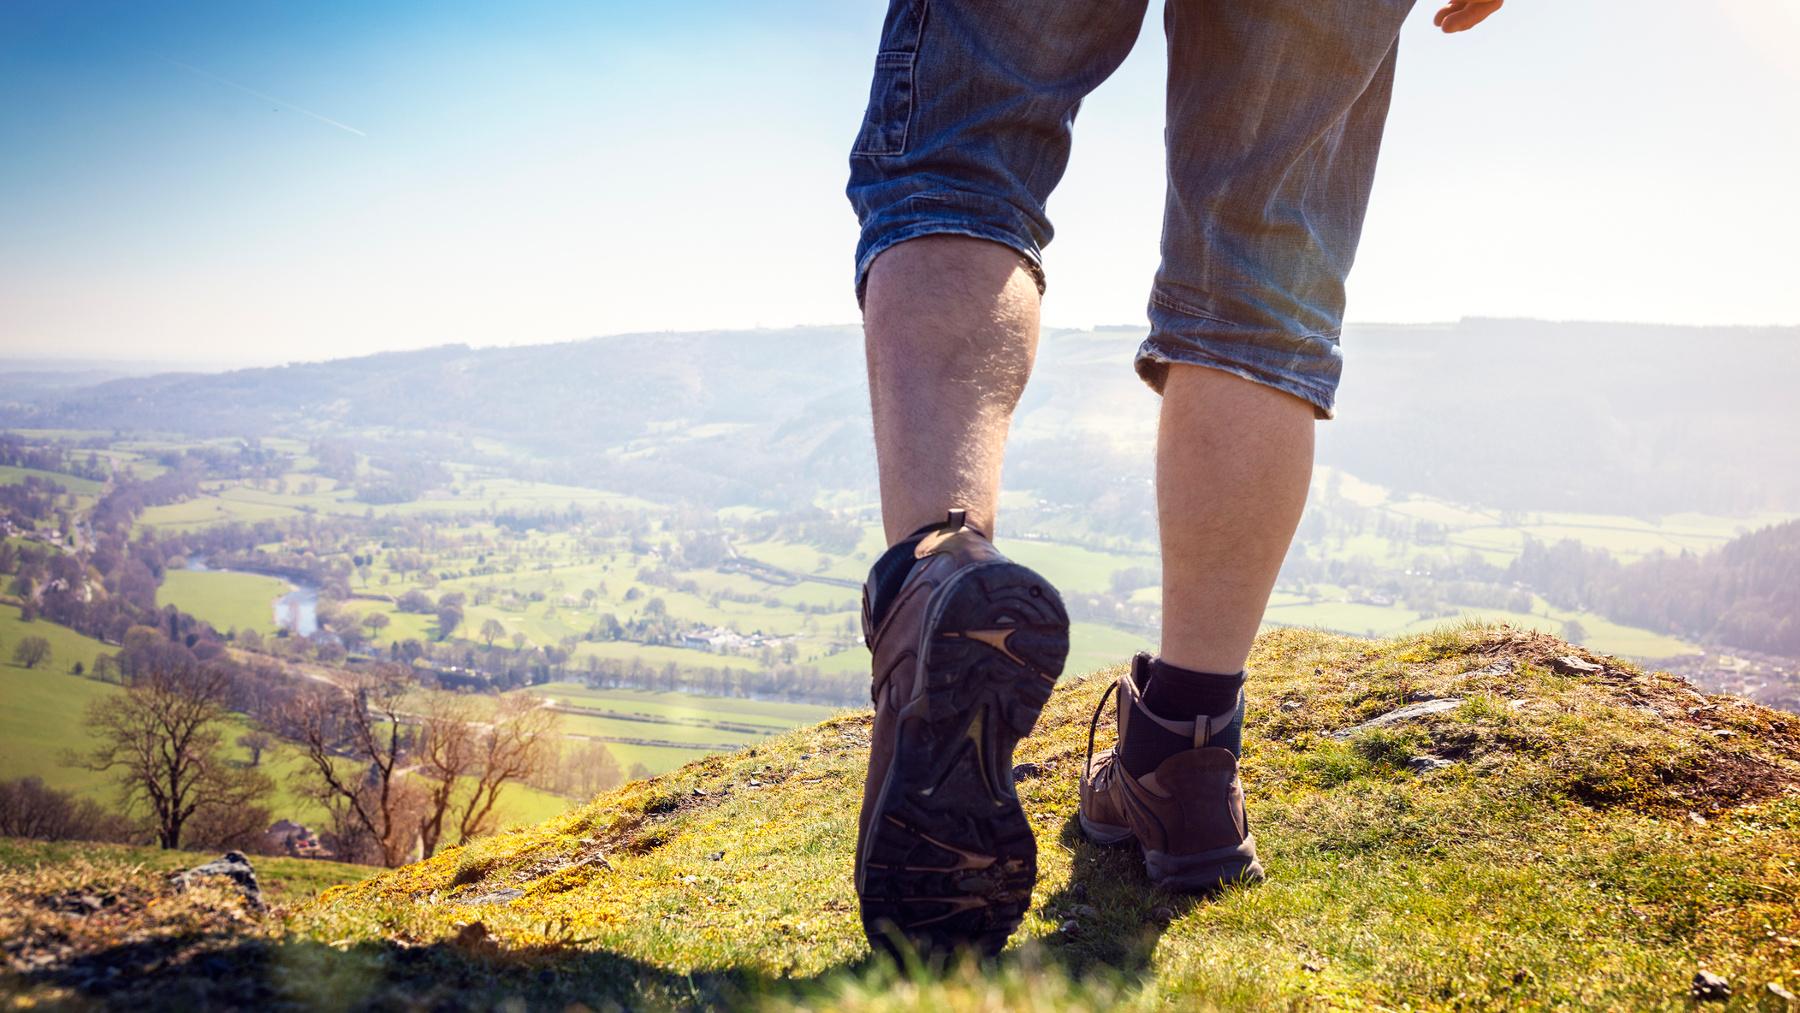feet: (804, 440, 1303, 985)
